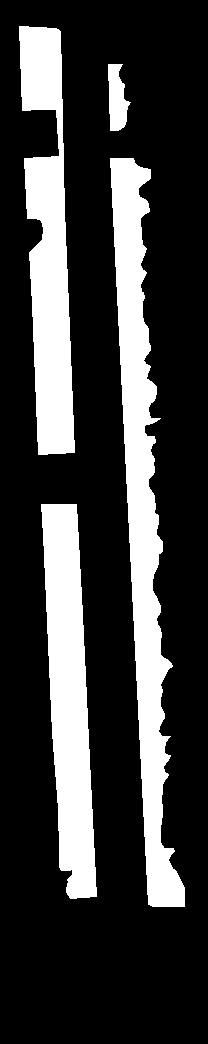parkingspot: (52, 8, 192, 1044), (110, 158, 184, 906), (19, 26, 74, 454), (41, 504, 96, 898), (108, 64, 130, 130)
